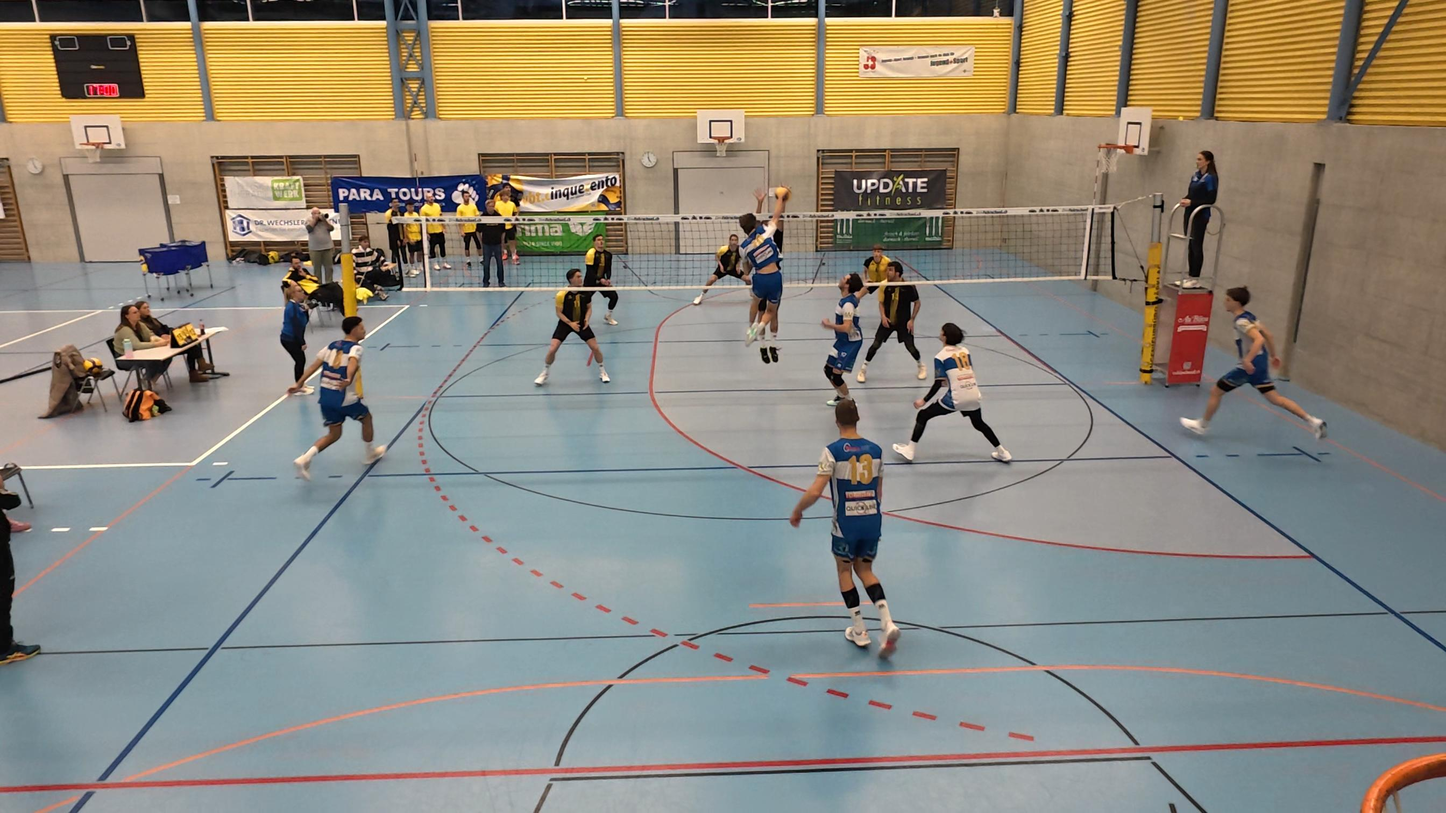attacco: (731, 184, 797, 363)
muro: (748, 175, 789, 252)
